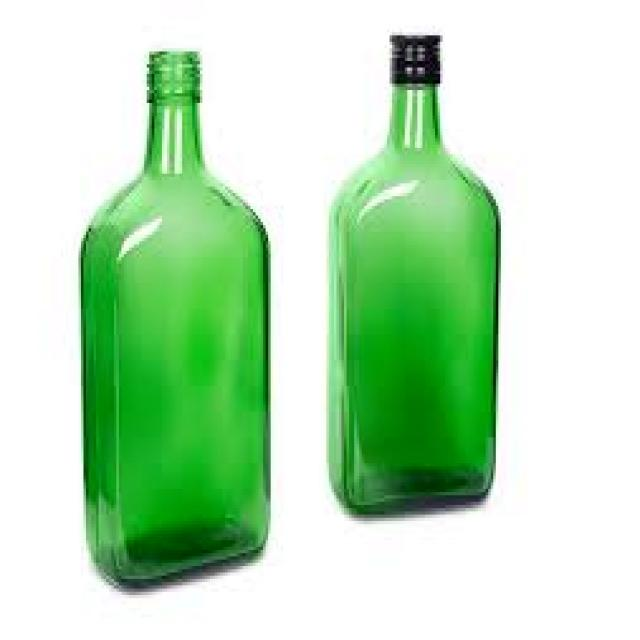Glass: (74, 48, 272, 589), (322, 29, 507, 514)
